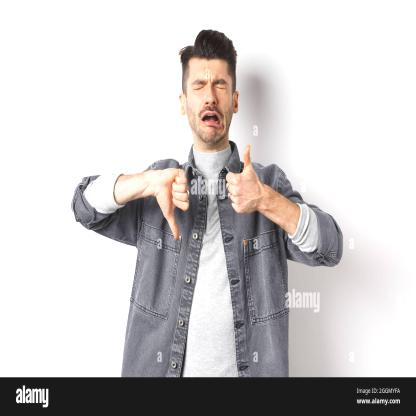Stop: (145, 156, 193, 236)
Thumbs up: (231, 144, 265, 216)
